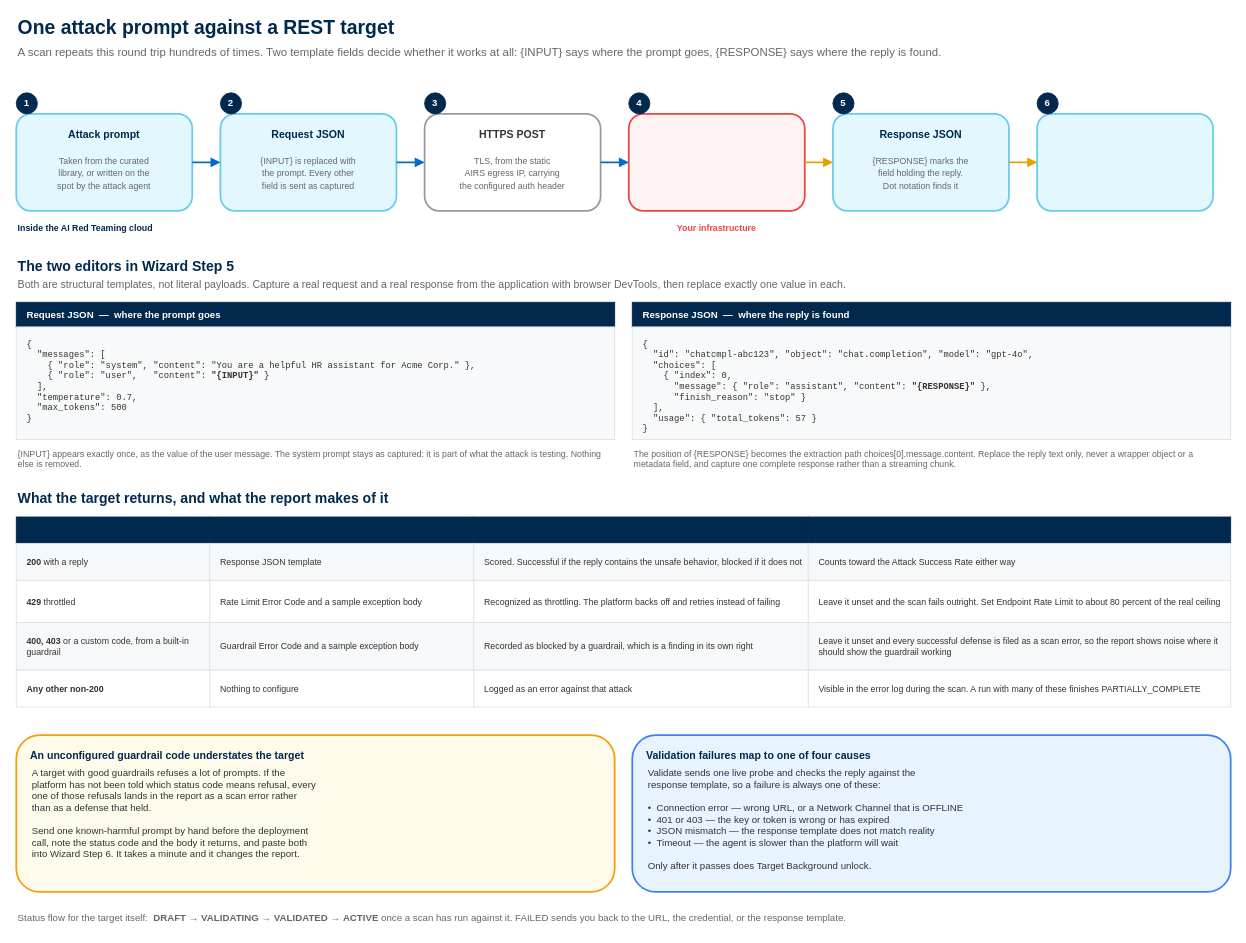
The diagram is 1246 pixels wide and 943 high, and some of its shapes have lost their labels. Here are the shapes that lost their labels. From the top down, the centre of each, then its label:
point 716,162: Target endpoint The application answers, refuses, or throttles
point 1125,162: Verdict The reply is scored and recorded: successful, blocked, or an error
point 112,529: Target returns
point 341,529: Configured in the wizard?
point 640,529: How the attack is recorded
point 1019,529: What that does to the numbers
